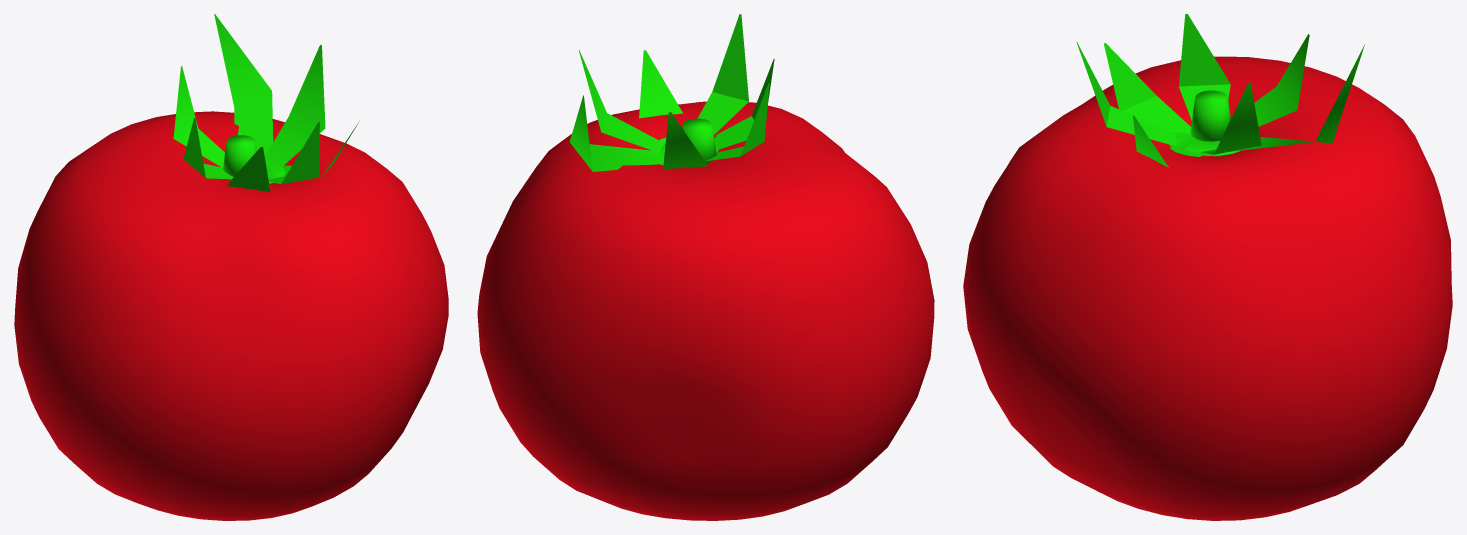
The model's file is tomato.glb.
3 views of the same model, side by side, from view 1: azimuth 30°, elevation 25°; view 2: azimuth 150°, elevation 25°; view 3: azimuth 270°, elevation 25° (orthographic). The views are drawn at different scales.
Visible parts, largest first — view 1: 球, 平面, 平面.003, 平面.006, 平面.001, 平面.005, 円柱, 平面.002; view 2: 球, 平面.001, 平面, 平面.004, 平面.003, 平面.006, 平面.005, 平面.002, 円柱; view 3: 球, 平面.005, 平面.002, 平面.006, 平面.003, 円柱, 平面.001, 平面, 平面.004, トーラス.
Boxes of the visible parts, x1,y1,x2,y2 form: 球: [14, 111, 448, 520]; 平面: [214, 14, 273, 156]; 平面.003: [264, 45, 325, 166]; 平面.006: [173, 66, 224, 167]; 平面.001: [268, 122, 319, 184]; 平面.005: [226, 147, 270, 191]; 円柱: [223, 135, 256, 176]; 平面.002: [183, 117, 233, 179]; 球: [477, 101, 934, 520]; 平面.001: [697, 14, 748, 134]; 平面: [569, 95, 664, 171]; 平面.004: [639, 50, 682, 143]; 平面.003: [579, 50, 664, 153]; 平面.006: [663, 112, 707, 169]; 平面.005: [714, 58, 774, 150]; 平面.002: [705, 83, 769, 161]; 円柱: [682, 118, 716, 163]; 球: [963, 56, 1452, 520]; 平面.005: [1104, 43, 1190, 133]; 平面.002: [1178, 14, 1230, 120]; 平面.006: [1254, 34, 1309, 126]; 平面.003: [1201, 82, 1261, 154]; 円柱: [1190, 90, 1230, 141]; 平面.001: [1076, 42, 1177, 146]; 平面: [1229, 44, 1364, 151]; 平面.004: [1133, 115, 1204, 167]; トーラス: [1169, 132, 1240, 156].
Size of the model in its own units: 1.99 by 2.05 by 1.95.
